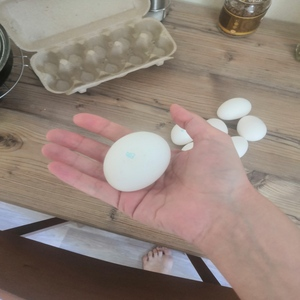white egg: (103, 131, 172, 193), (236, 114, 267, 143), (216, 97, 252, 121)
